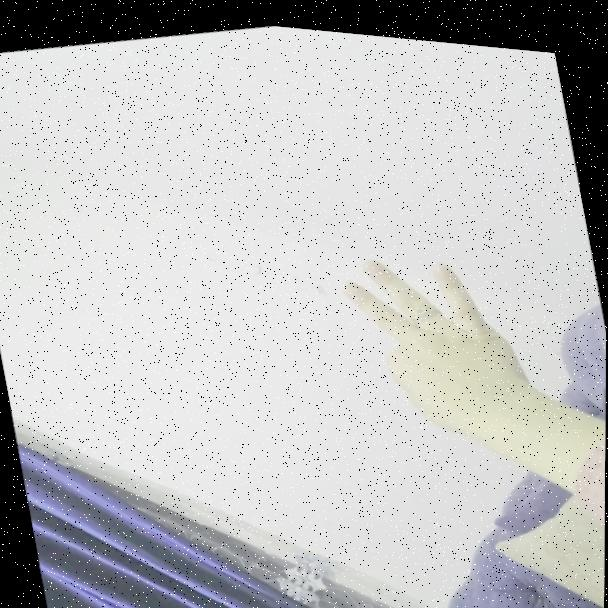five: (331, 218, 535, 463)
